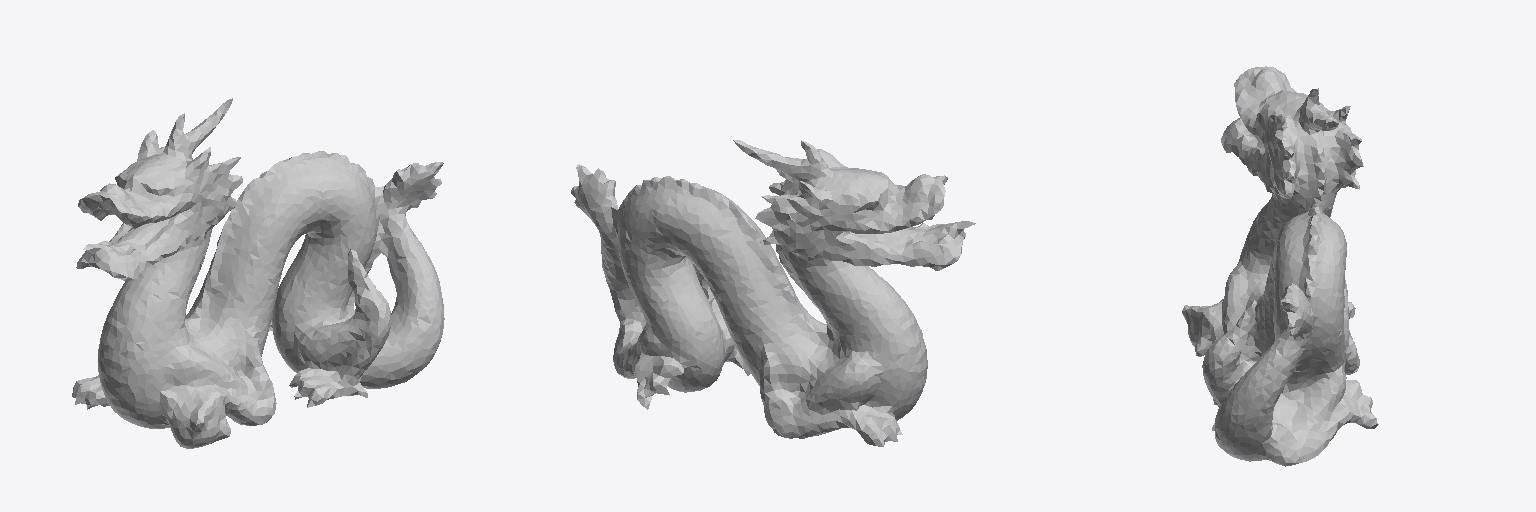
Rendered from dragonNormalized.obj.
3 views of the same model, side by side, from view 1: azimuth 30°, elevation 25°; view 2: azimuth 150°, elevation 25°; view 3: azimuth 270°, elevation 25° (orthographic).
Bounding box in the file's own units: 7.66 × 5.44 × 3.43.